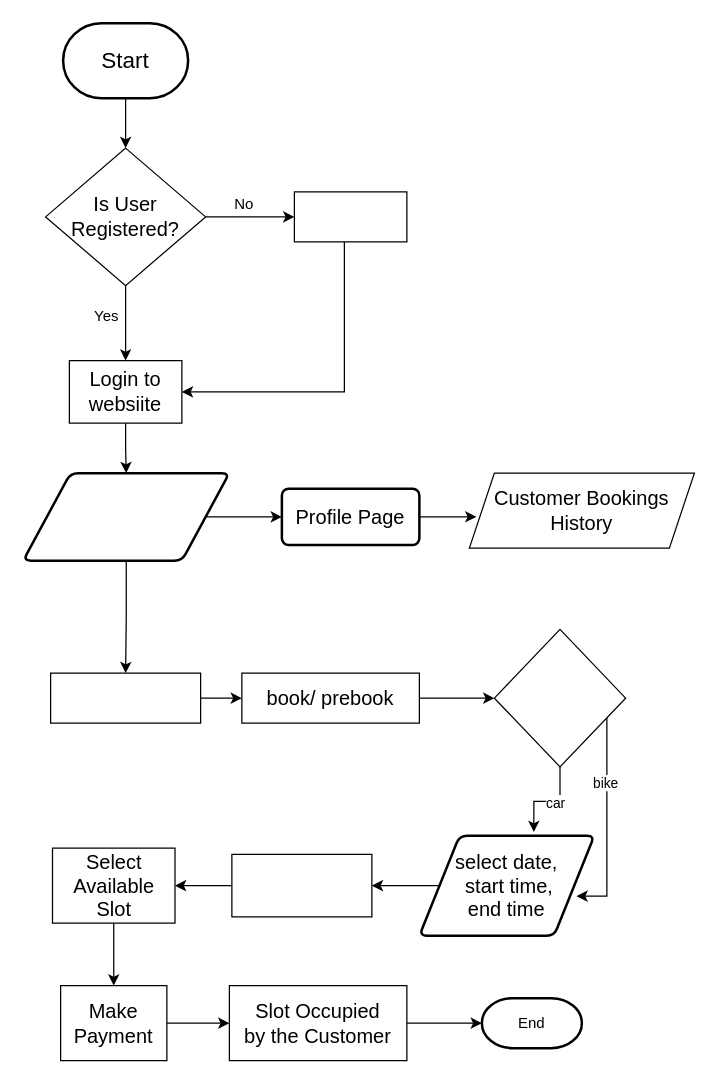
This 716x1083 diagram has some shape labels left out. Here are the shapes that lost their labels. From the top down, the centre of each, then its label:
At (350,216): "Register".
At (125,516): "Homepage with slot visual".
At (125,697): "Booking page".
At (559,697): "Car / bike".
At (301,885): "Check availability".
